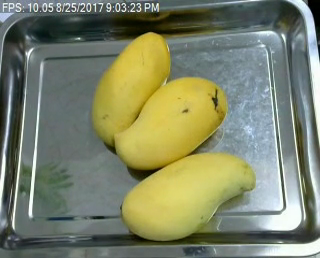Mango: (116, 151, 255, 240), (113, 75, 227, 175), (89, 32, 171, 152)
